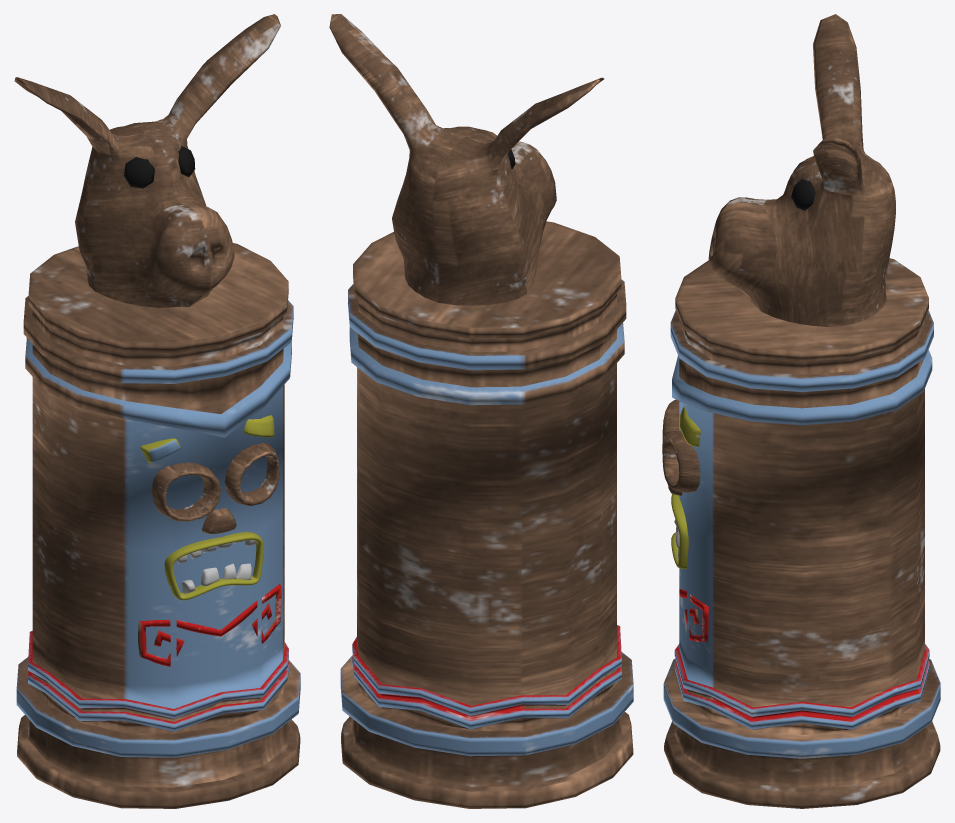
File: Totem2.glb
The picture shows the model from 3 angles, left to right: view 1: azimuth 30°, elevation 25°; view 2: azimuth 150°, elevation 25°; view 3: azimuth 270°, elevation 25°; orthographic projection. The views are drawn at different scales.
Visible parts, largest first — view 1: Totem 2; view 2: Totem 2; view 3: Totem 2.
Boxes of the visible parts, x1=… form: Totem 2: x1=14, y1=14, x2=300, y2=808; Totem 2: x1=329, y1=14, x2=633, y2=808; Totem 2: x1=662, y1=14, x2=940, y2=808.
Size of the model in its own units: 5.69 by 14.39 by 5.36.
1 material, 1 textured.
